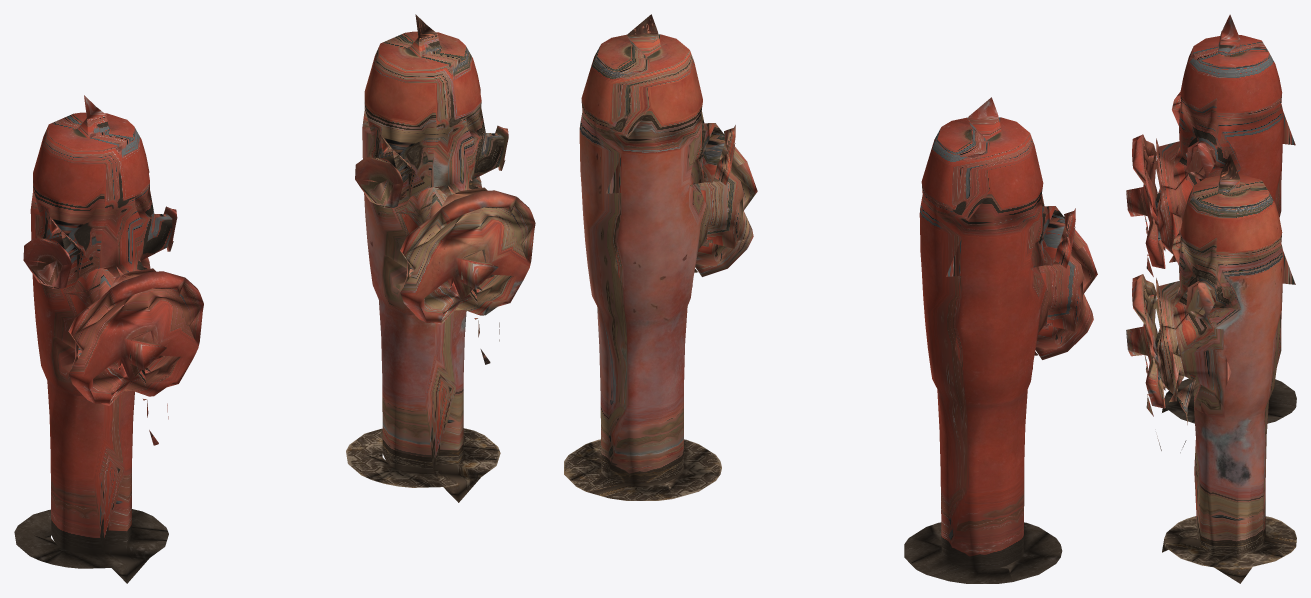
Rendered from fire_hydrant_1k.gltf.
The picture shows the model from 3 angles, left to right: view 1: azimuth 30°, elevation 25°; view 2: azimuth 150°, elevation 25°; view 3: azimuth 270°, elevation 25°; orthographic projection. The views are drawn at different scales.
Visible parts, largest first — view 1: fire_hydrant_aged, fire_hydrant, fire_hydrant_cap_01_aged, fire_hydrant_cap_01, fire_hydrant_cap_03_aged, fire_hydrant_cap_03; view 2: fire_hydrant, fire_hydrant_aged, fire_hydrant_cap_01, fire_hydrant_cap_01_aged; view 3: fire_hydrant_aged, fire_hydrant, fire_hydrant_cap_01_aged, fire_hydrant_cap_01, fire_hydrant_cap_02_aged, fire_hydrant_cap_02, fire_hydrant_chain_aged.
Part boxes in pixels (box(x1,y1,x2,y2)): fire_hydrant_aged: box(346, 14, 503, 502); fire_hydrant: box(14, 95, 172, 583); fire_hydrant_cap_01_aged: box(400, 190, 535, 325); fire_hydrant_cap_01: box(68, 271, 203, 405); fire_hydrant_cap_03_aged: box(355, 157, 403, 207); fire_hydrant_cap_03: box(23, 238, 71, 288); fire_hydrant: box(904, 97, 1084, 583); fire_hydrant_aged: box(564, 14, 744, 500); fire_hydrant_cap_01: box(1035, 225, 1097, 359); fire_hydrant_cap_01_aged: box(695, 141, 757, 276); fire_hydrant_aged: box(1155, 154, 1296, 583); fire_hydrant: box(1155, 14, 1296, 423); fire_hydrant_cap_01_aged: box(1126, 274, 1165, 408); fire_hydrant_cap_01: box(1126, 134, 1165, 268); fire_hydrant_cap_02_aged: box(1186, 281, 1215, 318); fire_hydrant_cap_02: box(1186, 141, 1215, 178); fire_hydrant_chain_aged: box(1139, 306, 1202, 452).
Size of the model in its own units: 0.8682 by 0.7985 by 0.3105.
Materials: 2 (2 with a texture image).
